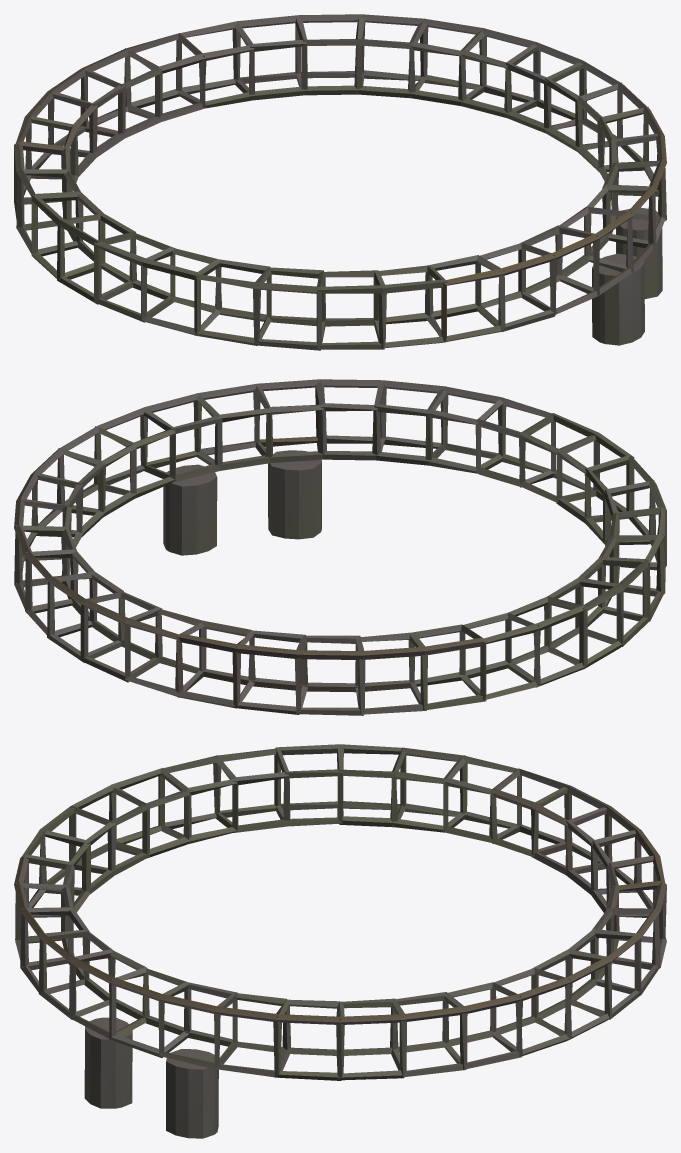
File: 第一關舞台王傑上圓燈.fbx
3 views of the same model, one above another, from view 1: azimuth 30°, elevation 25°; view 2: azimuth 150°, elevation 25°; view 3: azimuth 270°, elevation 25° (orthographic).
Visible parts, largest first — view 1: Circle.011, Circle.010, Circle.009; view 2: Circle.011, Circle.010, Circle.009; view 3: Circle.011, Circle.009, Circle.010.
Part boxes in pixels (<box>): Circle.011: <box>14,14,666,350</box>; Circle.010: <box>592,253,644,345</box>; Circle.009: <box>616,207,662,298</box>; Circle.011: <box>14,379,666,715</box>; Circle.010: <box>268,450,321,539</box>; Circle.009: <box>163,464,217,555</box>; Circle.011: <box>14,744,666,1080</box>; Circle.009: <box>166,1049,218,1138</box>; Circle.010: <box>84,1017,132,1108</box>.
Bounding box in the file's own units: 436 × 436 × 102.
